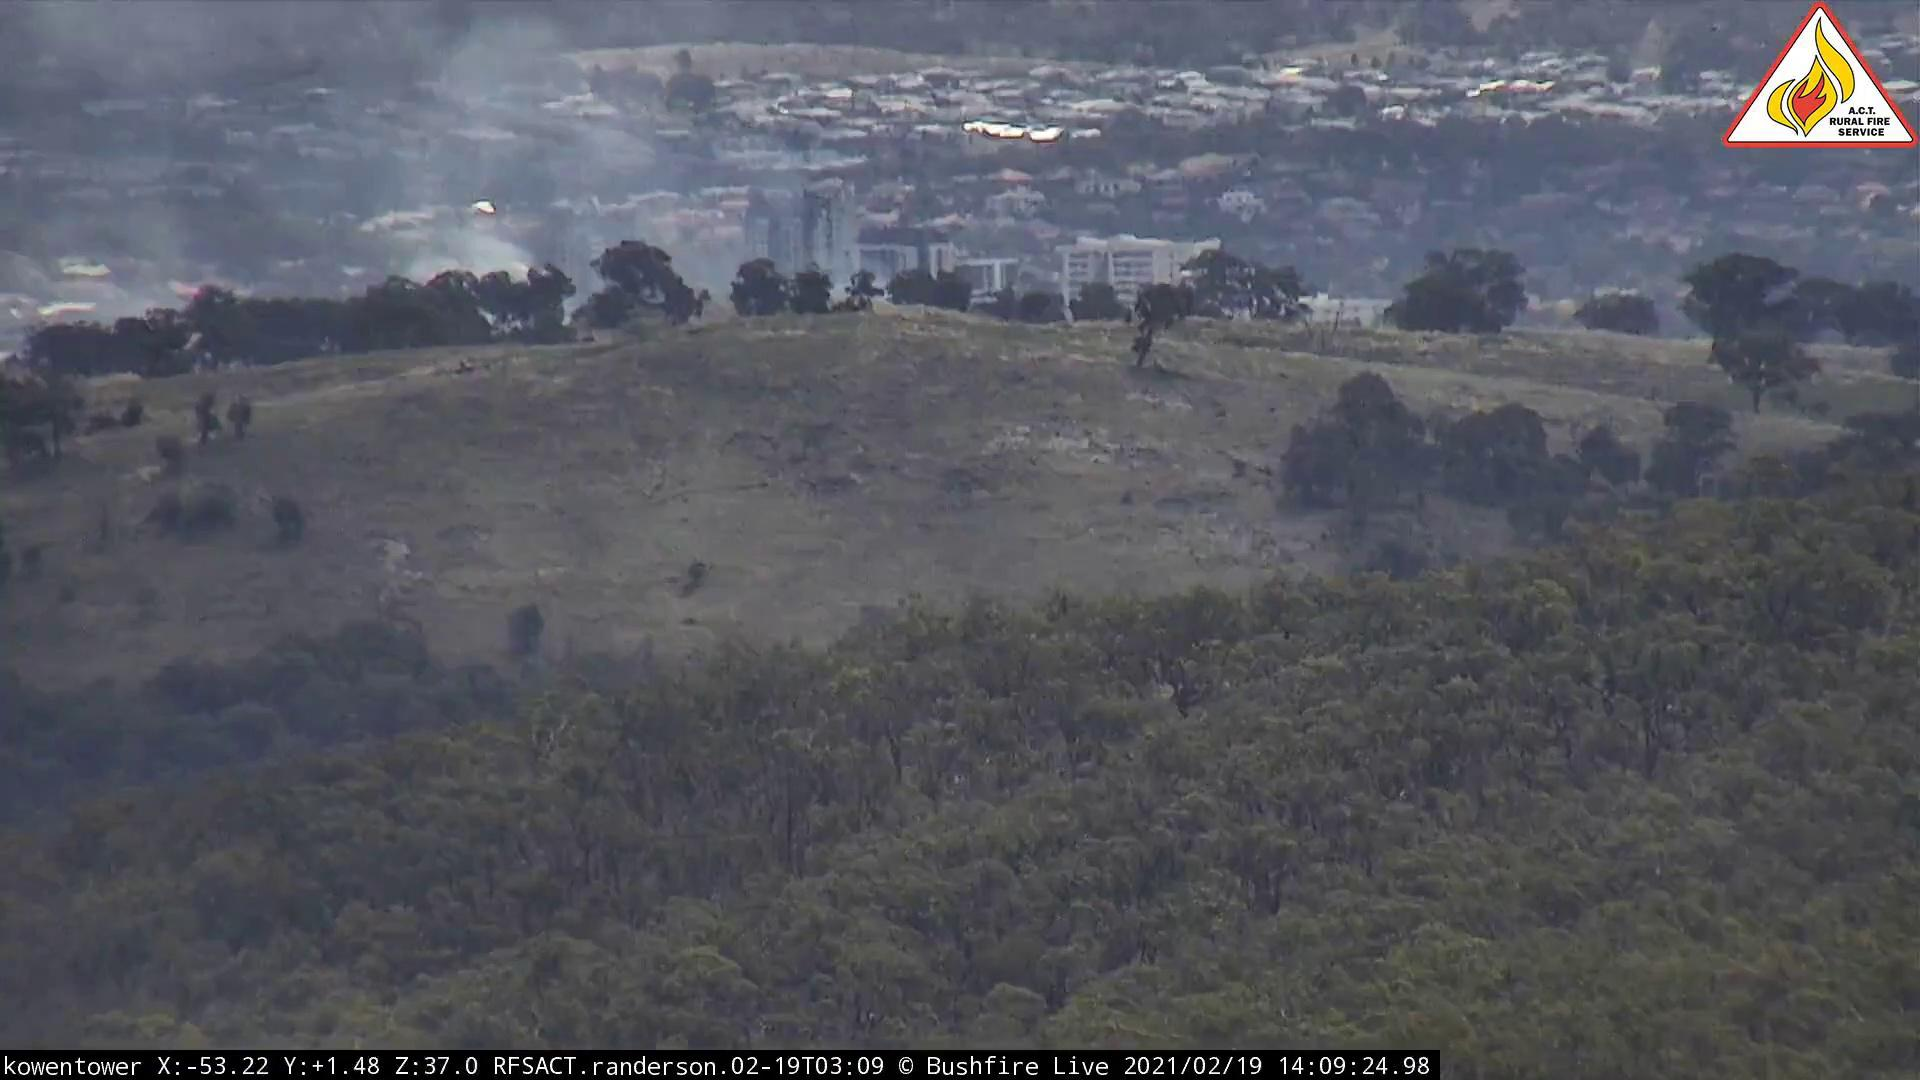Smoke: (3, 3, 960, 351)
